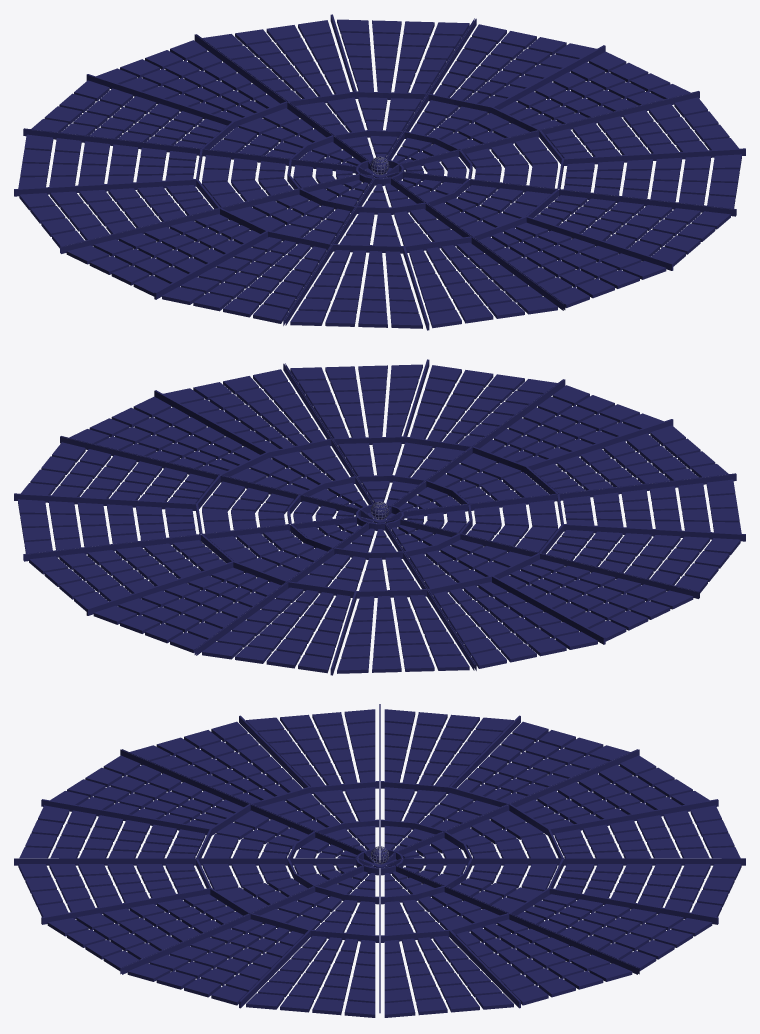
Rendered from StageNova.FBX.
The picture shows the model from 3 angles, top to bottom: view 1: azimuth 30°, elevation 25°; view 2: azimuth 150°, elevation 25°; view 3: azimuth 270°, elevation 25°; orthographic projection.
Parts seen in each view (by area): view 1: City, Base; view 2: City, Base; view 3: City, Base.
Part boxes in pixels (left/top/right/bottom): City: left=18, top=19, right=741, bottom=328; Base: left=14, top=14, right=745, bottom=330; City: left=18, top=364, right=741, bottom=673; Base: left=14, top=359, right=745, bottom=675; City: left=18, top=709, right=741, bottom=1017; Base: left=14, top=704, right=745, bottom=1013.
Size of the model in its own units: 199883 by 5500 by 199883.
Materials: 1 (1 with a texture image).
